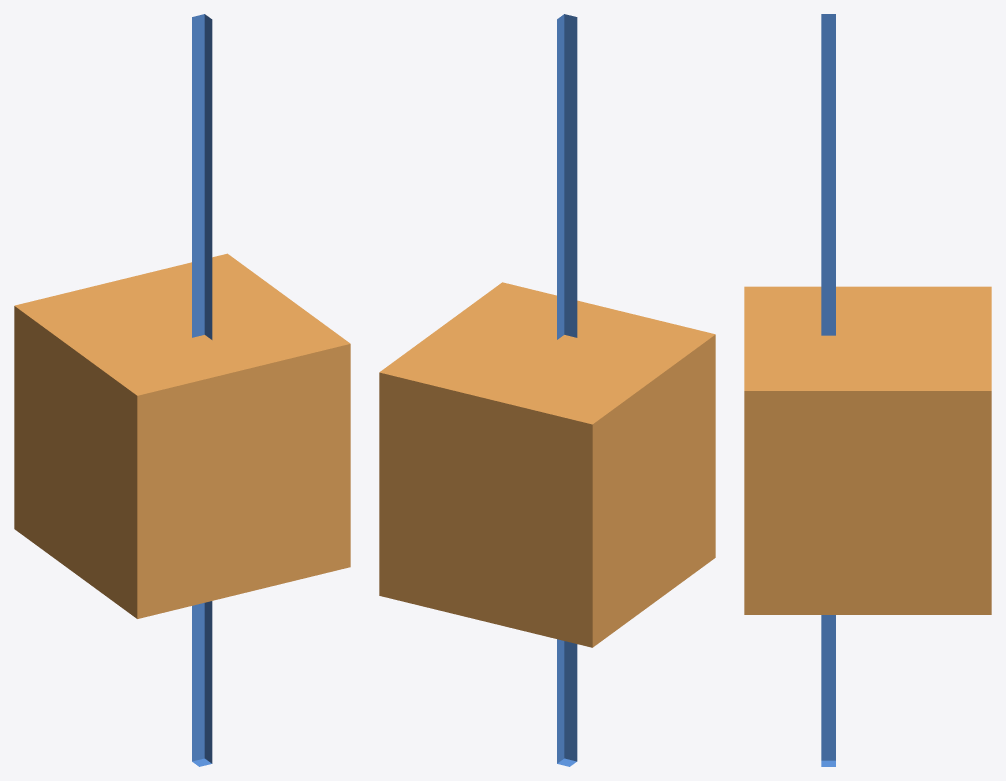
Rendered from box_mocap_move_case2_data_MWV_seat13_MWVOPT_20260330000247_20260330000247_1_1775106780.glb.
3 views of the same model, side by side, from view 1: azimuth 30°, elevation 25°; view 2: azimuth 150°, elevation 25°; view 3: azimuth 270°, elevation 25° (orthographic).
Visible parts, largest first — view 1: prop_Box_H_1, bvh_bone_Hips_to_Spine; view 2: prop_Box_H_1, bvh_bone_Hips_to_Spine; view 3: prop_Box_H_1, bvh_bone_Hips_to_Spine.
Part boxes in pixels (x1,y1,x2,y2): prop_Box_H_1: (14,253,350,618); bvh_bone_Hips_to_Spine: (192,14,212,766); prop_Box_H_1: (379,282,715,647); bvh_bone_Hips_to_Spine: (557,14,577,766); prop_Box_H_1: (744,286,991,614); bvh_bone_Hips_to_Spine: (821,14,835,766).
Bounding box in the file's own units: 0.3 × 1 × 0.3.
